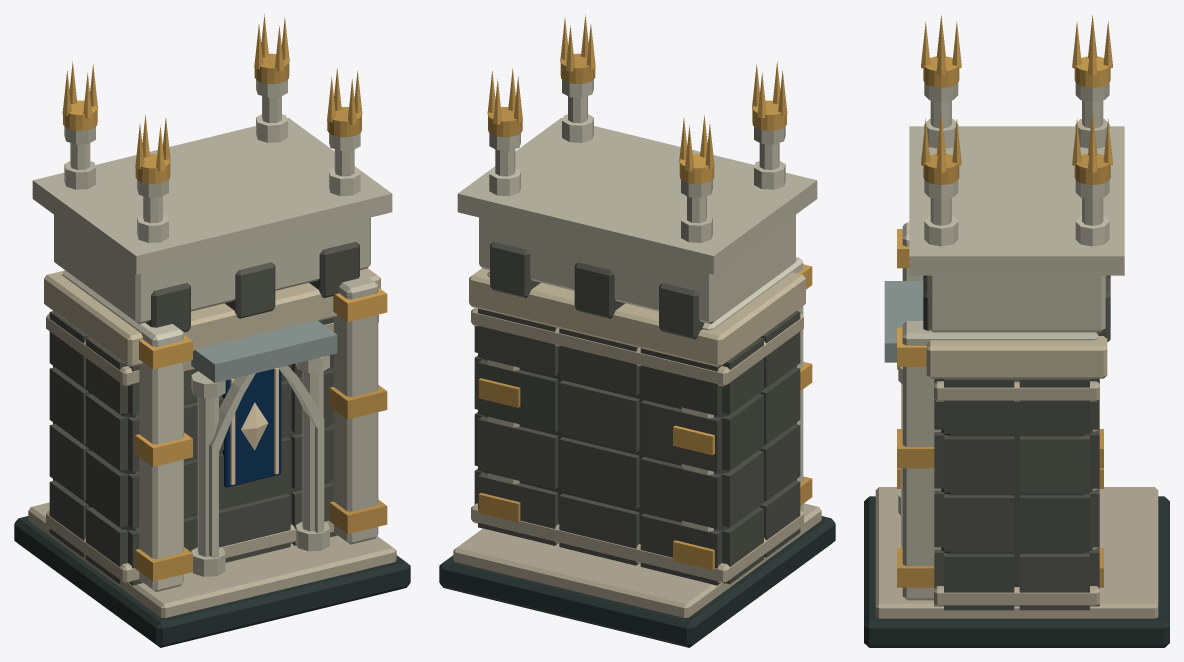
The picture shows the model from 3 angles, left to right: view 1: azimuth 30°, elevation 25°; view 2: azimuth 150°, elevation 25°; view 3: azimuth 270°, elevation 25°; orthographic projection. The views are drawn at different scales.
Parts seen in each view (by area): view 1: wall_L5_0, wall_L5_1; view 2: wall_L5_0, wall_L5_1; view 3: wall_L5_0, wall_L5_1.
Boxes of the visible parts, left/top/right/bottom form: wall_L5_0: left=14, top=79, right=410, bottom=647; wall_L5_1: left=62, top=14, right=387, bottom=581; wall_L5_0: left=439, top=79, right=835, bottom=647; wall_L5_1: left=478, top=14, right=812, bottom=569; wall_L5_0: left=864, top=83, right=1169, bottom=647; wall_L5_1: left=897, top=15, right=1112, bottom=587.
Size of the model in its own units: 1.87 by 3.46 by 1.86.
